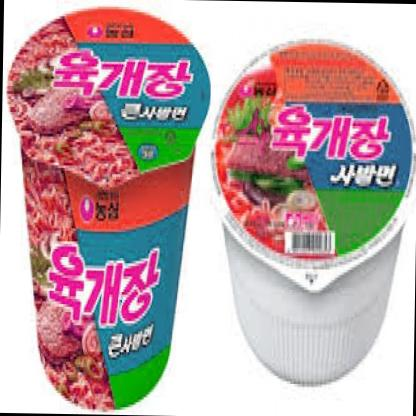Ramen: (1, 6, 212, 412), (204, 34, 414, 380)
